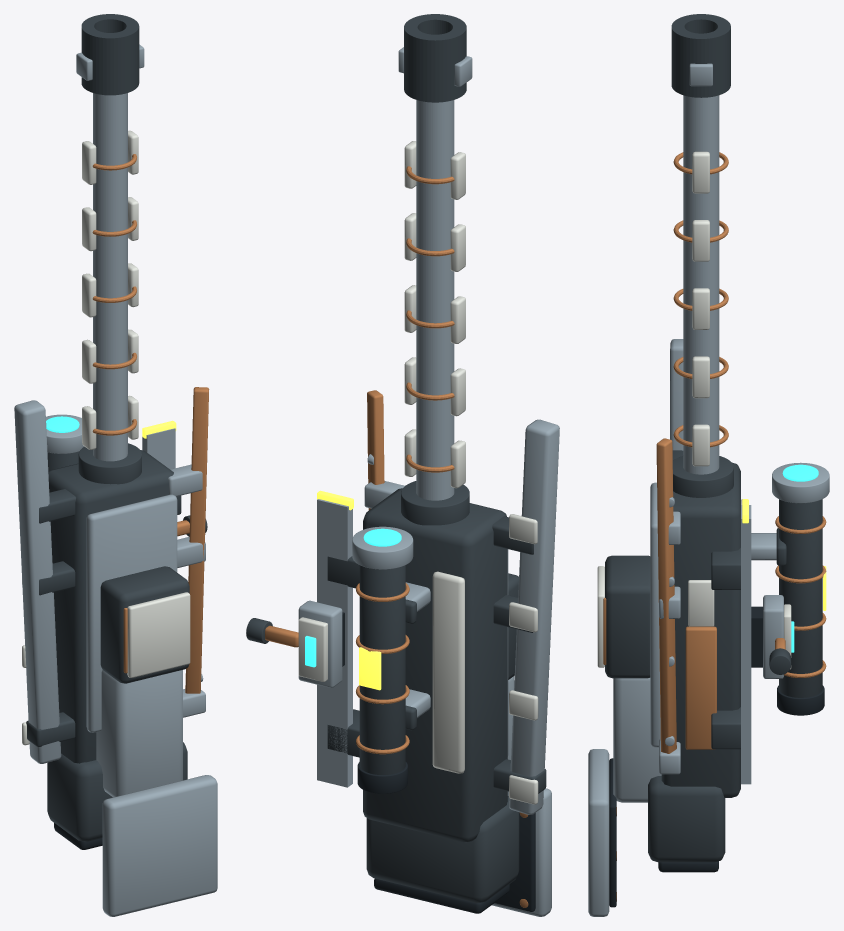
The model's file is M01-011_long_precision_rifle_animated.fbx.
The picture shows the model from 3 angles, left to right: view 1: azimuth 30°, elevation 25°; view 2: azimuth 150°, elevation 25°; view 3: azimuth 270°, elevation 25°; orthographic projection. The views are drawn at different scales.
Parts seen in each view (by area): view 1: Mount_Top_Socket, Bored_Long_Barrel, Precision_Receiver, Left_Long_Diagonal_Brace, Load_Bearing_Column, Receiver_Lower_Skid, Magazine_Ceramic_Base, Underbarrel_Magazine, Rear_Recoil_Block, Muzzle_Brake_Bored, Right_Light_Diagonal_Brace, Barrel_Breech_Collar (+15 smaller); view 2: Precision_Receiver, Bored_Long_Barrel, Left_Long_Diagonal_Brace, Rear_Recoil_Block, Precision_Optic_Tube, Bolt_Fixed_Rail, Receiver_Upper_Ceramic_Left, Muzzle_Brake_Bored, Mount_Top_Socket, Barrel_Breech_Collar, Mount_Elastomer_Gasket, Bolt_Machined_Block (+21 smaller); view 3: Precision_Receiver, Bored_Long_Barrel, Precision_Optic_Tube, Rear_Recoil_Block, Underbarrel_Magazine, Load_Bearing_Column, Right_Light_Diagonal_Brace, Muzzle_Brake_Bored, Right_Side_Copper_Band, Mount_Top_Socket, Bolt_Fixed_Rail, Receiver_Lower_Skid (+22 smaller).
Boxes of the visible parts, left/top/right/bottom form: Mount_Top_Socket: left=102, top=775, right=217, bottom=916; Bored_Long_Barrel: left=93, top=93, right=127, bottom=461; Precision_Receiver: left=48, top=450, right=176, bottom=763; Left_Long_Diagonal_Brace: left=14, top=400, right=61, bottom=763; Load_Bearing_Column: left=96, top=670, right=182, bottom=797; Receiver_Lower_Skid: left=86, top=494, right=177, bottom=732; Magazine_Ceramic_Base: left=127, top=592, right=190, bottom=677; Underbarrel_Magazine: left=100, top=566, right=189, bottom=683; Rear_Recoil_Block: left=47, top=742, right=187, bottom=841; Muzzle_Brake_Bored: left=81, top=14, right=139, bottom=95; Right_Light_Diagonal_Brace: left=185, top=387, right=209, bottom=693; Barrel_Breech_Collar: left=78, top=443, right=141, bottom=484; Precision_Receiver: left=363, top=488, right=507, bottom=842; Bored_Long_Barrel: left=416, top=100, right=454, bottom=500; Left_Long_Diagonal_Brace: left=509, top=419, right=559, bottom=814; Rear_Recoil_Block: left=366, top=796, right=519, bottom=902; Precision_Optic_Tube: left=359, top=565, right=405, bottom=774; Bolt_Fixed_Rail: left=317, top=499, right=352, bottom=787; Receiver_Upper_Ceramic_Left: left=432, top=571, right=464, bottom=773; Muzzle_Brake_Bored: left=404, top=14, right=466, bottom=102; Mount_Top_Socket: left=492, top=788, right=551, bottom=916; Barrel_Breech_Collar: left=401, top=481, right=469, bottom=525; Mount_Elastomer_Gasket: left=494, top=812, right=535, bottom=911; Bolt_Machined_Block: left=298, top=600, right=342, bottom=687; Precision_Receiver: left=661, top=462, right=740, bottom=797; Bored_Long_Barrel: left=683, top=95, right=719, bottom=474; Precision_Optic_Tube: left=779, top=499, right=822, bottom=697; Rear_Recoil_Block: left=648, top=776, right=725, bottom=862; Underbarrel_Magazine: left=605, top=555, right=650, bottom=678; Load_Bearing_Column: left=613, top=678, right=661, bottom=802; Right_Light_Diagonal_Brace: left=656, top=438, right=676, bottom=753; Muzzle_Brake_Bored: left=671, top=14, right=730, bottom=97; Right_Side_Copper_Band: left=685, top=626, right=716, bottom=749; Mount_Top_Socket: left=588, top=749, right=609, bottom=916; Bolt_Fixed_Rail: left=741, top=505, right=751, bottom=784; Receiver_Lower_Skid: left=650, top=482, right=660, bottom=747.
Size of the model in its own units: 65.84 by 228 by 57.7.
